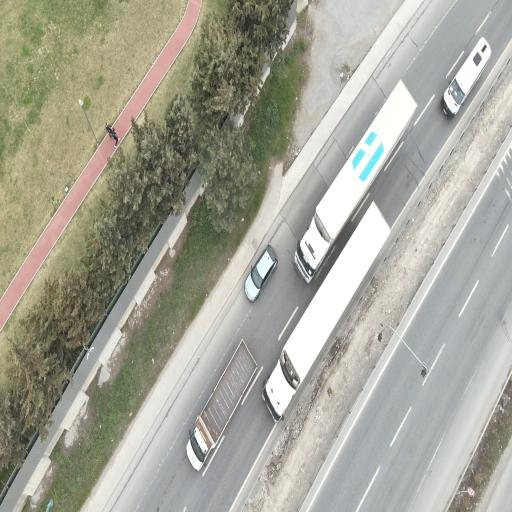car: (442, 37, 491, 117), (245, 246, 277, 301)
person: (106, 123, 118, 147), (112, 128, 118, 147)
truck: (263, 202, 390, 421), (295, 81, 416, 282), (187, 340, 257, 470)
